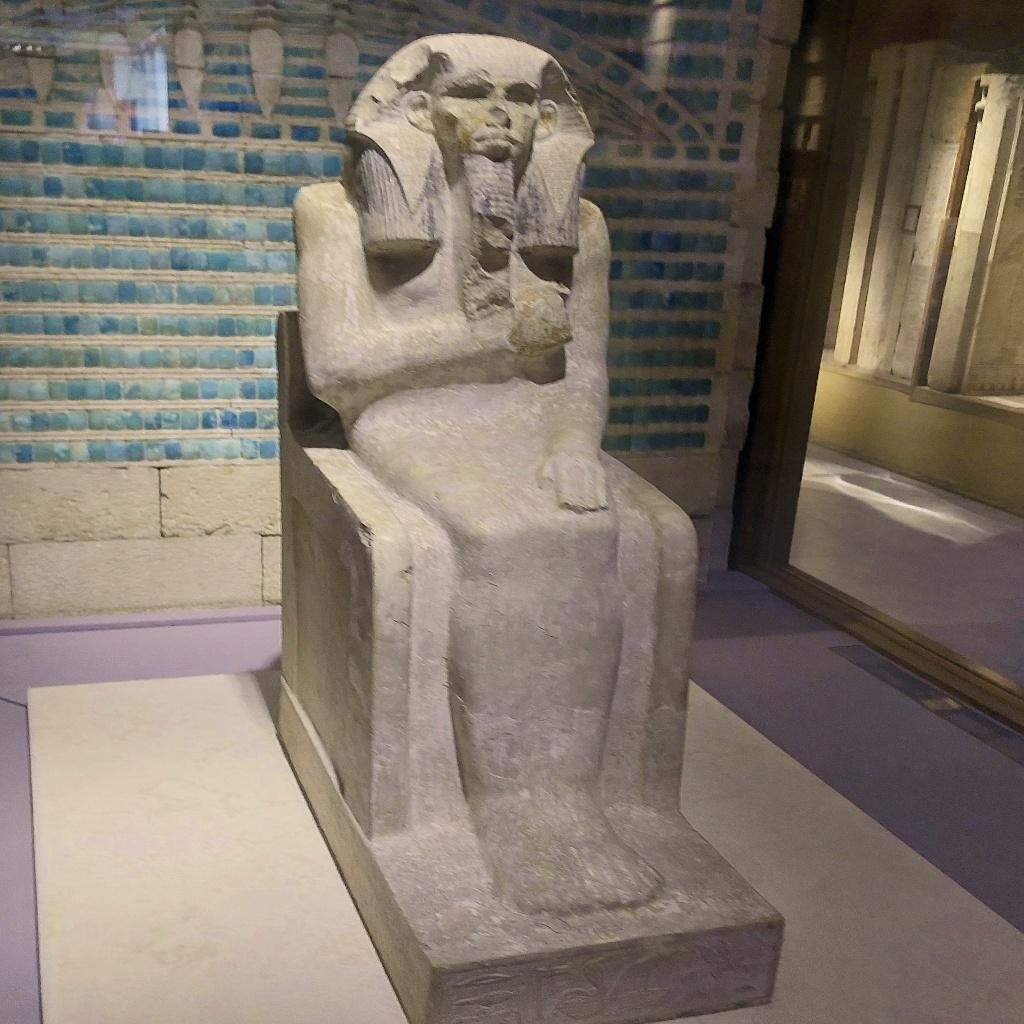Seated Statue of Djoser: (281, 30, 720, 926)
